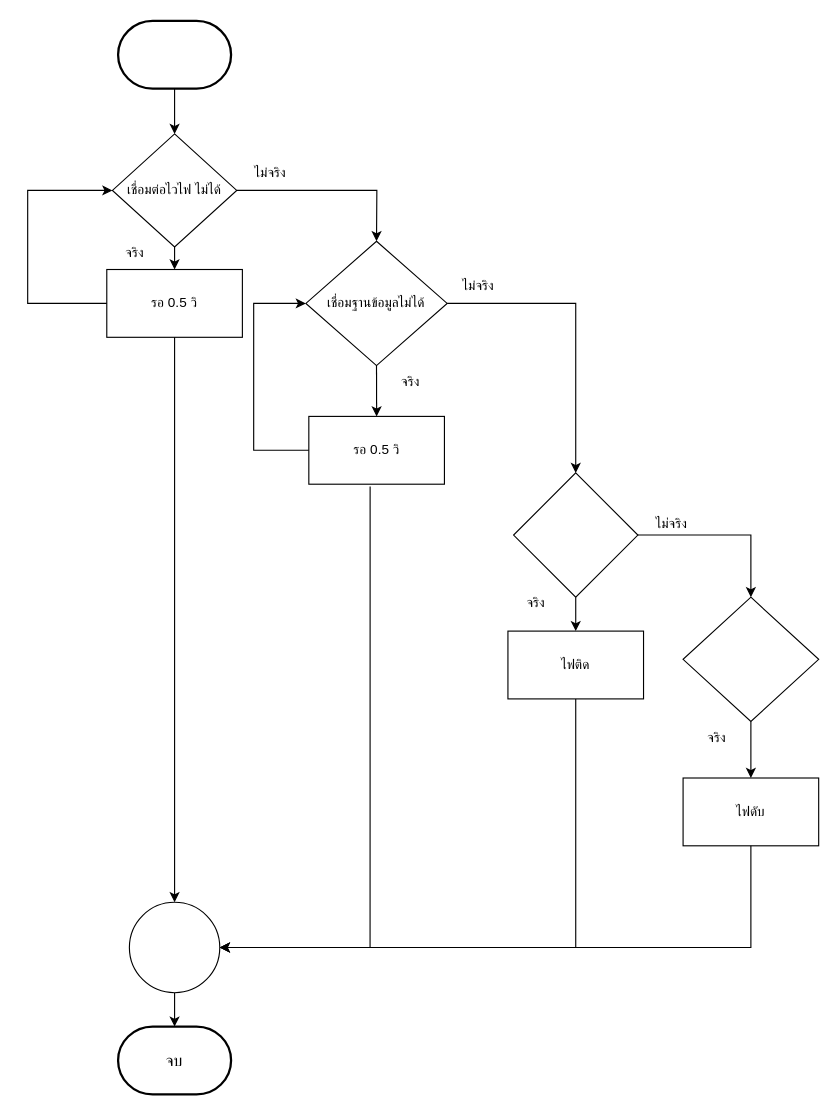
Some shapes in this 838 by 1114 pixel diagram are drawn without their labels. Each missing label, with the centre of its shape:
"เมื่อค่า สเตตัส เป็น 0" goes at point (750, 659).
"เมื่อค่า สเตตัส เป็น 1" goes at point (575, 534).
"เริ่ม" goes at point (174, 54).
